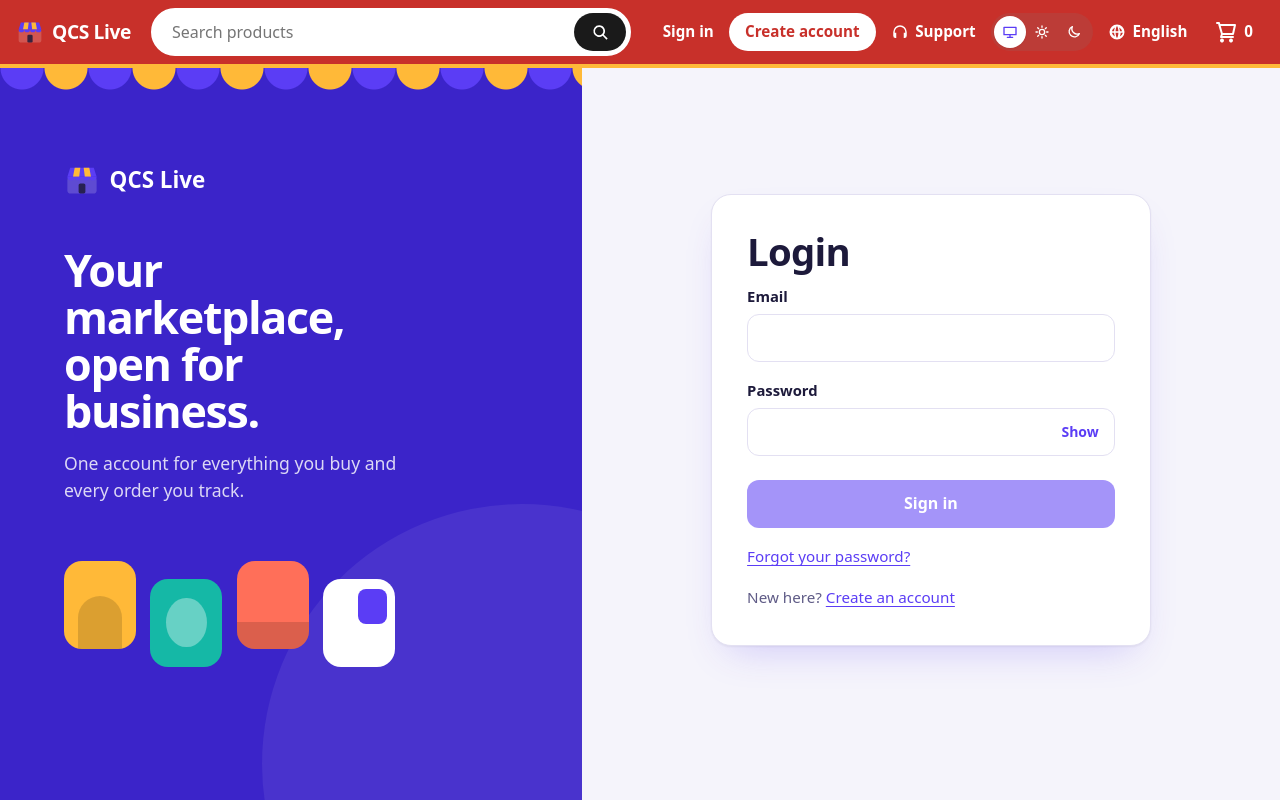
Test: login › signs in, then lands on the account page
In the field labelled "Email": (931, 338) [747,314,1115,362], type " jane@example.com "
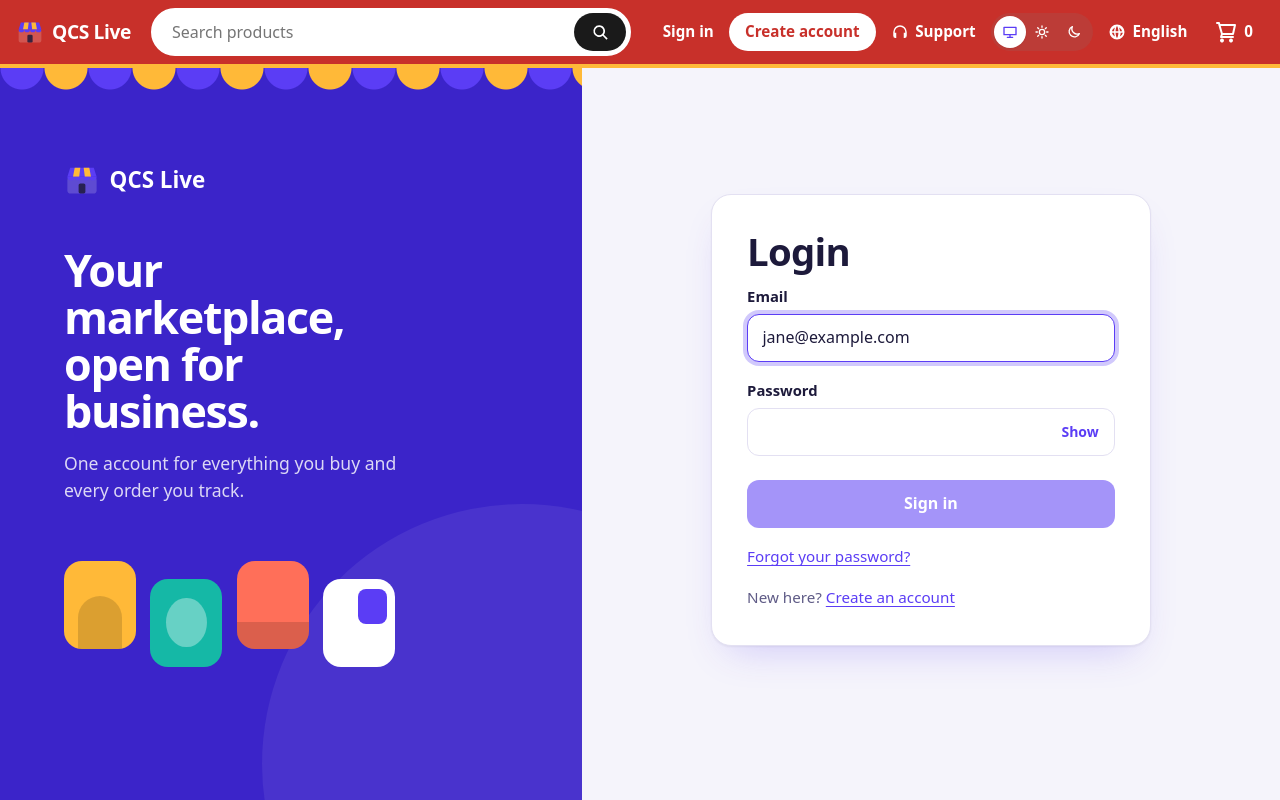
In the password field labelled "Password": (931, 432) [747,408,1115,456], type "a-reasonably-long-passphrase"
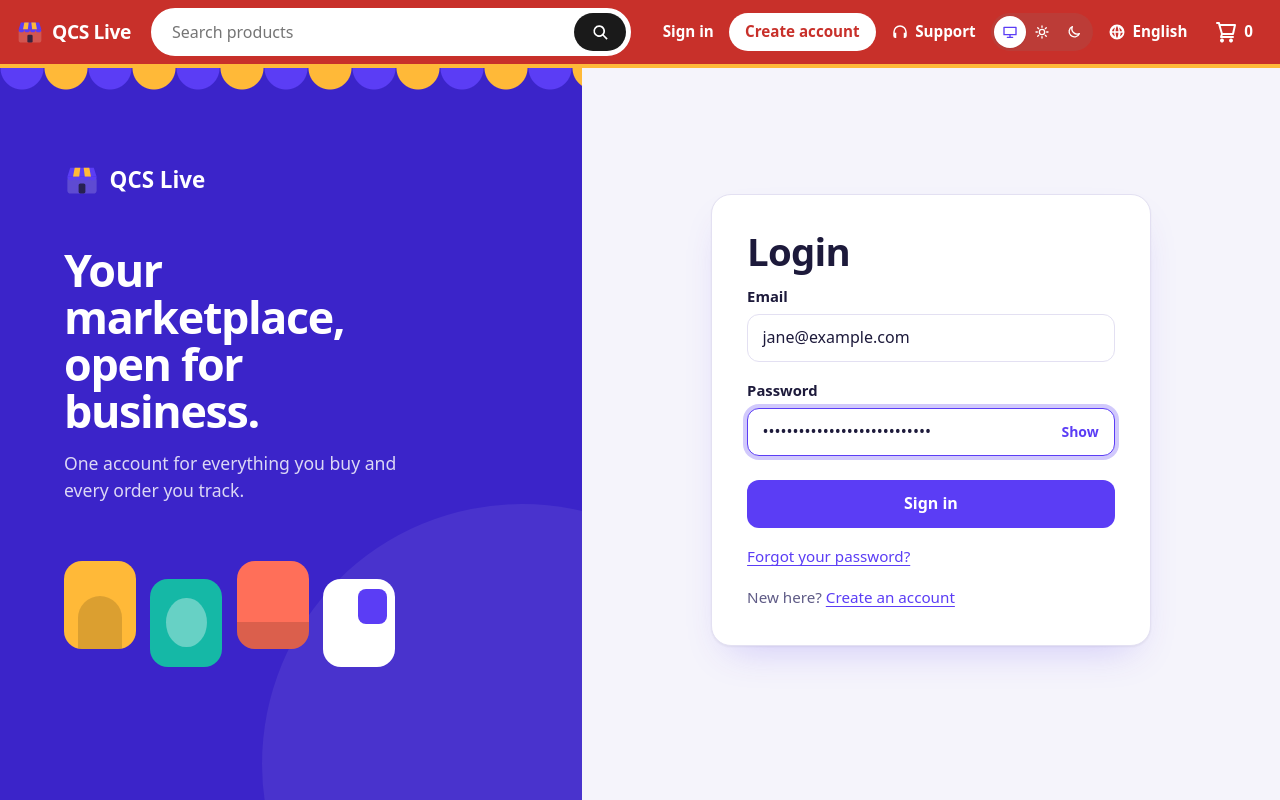
Click the button "Sign in": (931, 504) [747,480,1115,528]
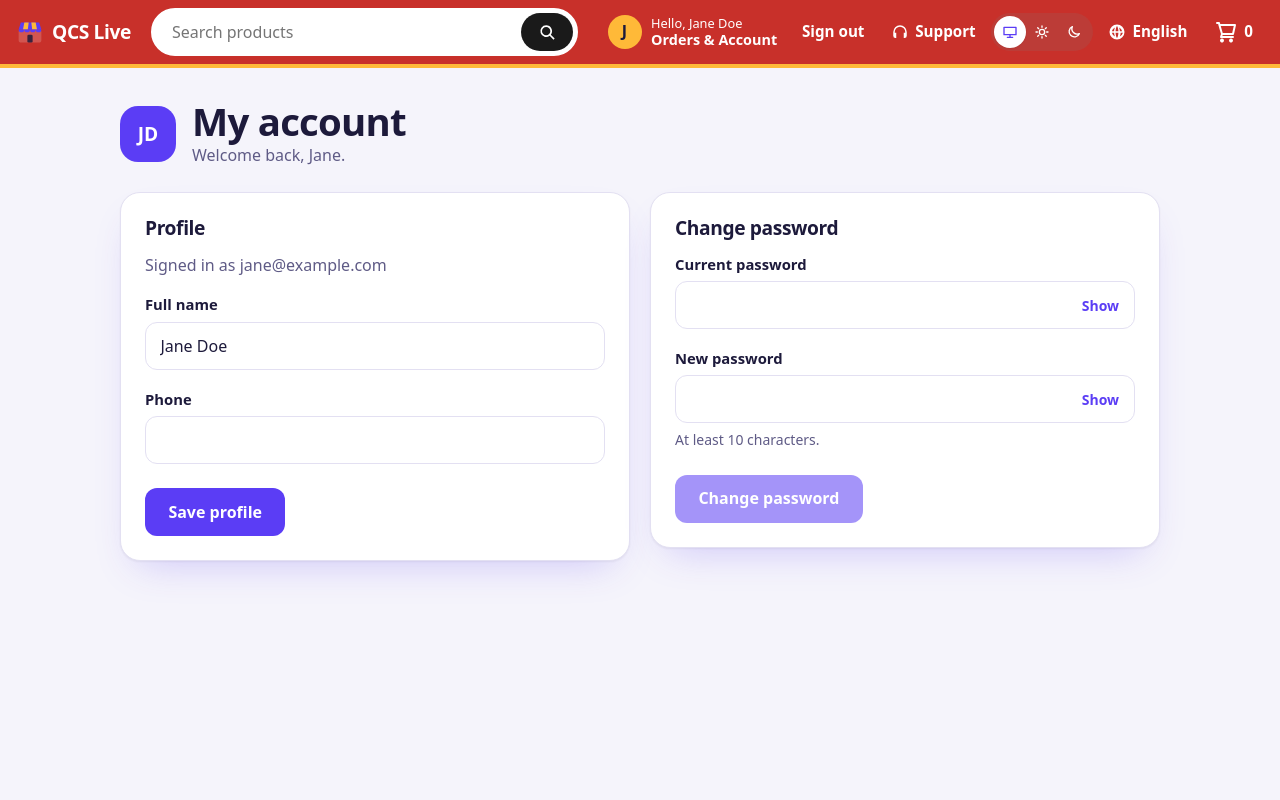
Expected: the heading "My account" is shown, [192,100,406,143]
